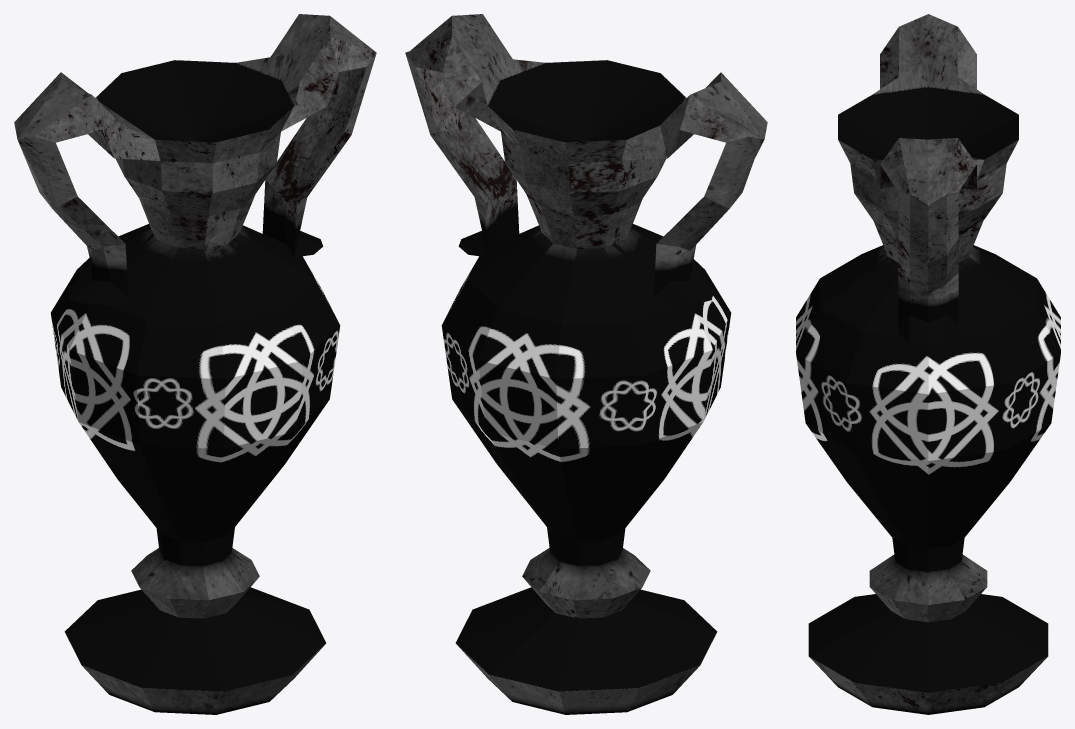
The model's file is Vase.fbx.
3 views of the same model, side by side, from view 1: azimuth 30°, elevation 25°; view 2: azimuth 150°, elevation 25°; view 3: azimuth 270°, elevation 25° (orthographic). The views are drawn at different scales.
Parts seen in each view (by area): view 1: pCylinder23; view 2: pCylinder23; view 3: pCylinder23.
Part boxes in pixels (bbox=[...]): pCylinder23: bbox=[14, 14, 376, 714]; pCylinder23: bbox=[405, 14, 767, 714]; pCylinder23: bbox=[796, 14, 1060, 714].
Size of the model in its own units: 160 by 268 by 108.
1 material, 1 textured.
